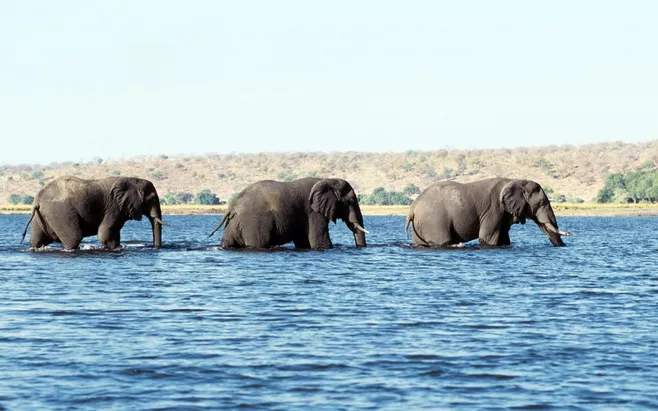elephant: (405, 177, 567, 257), (210, 176, 368, 256), (23, 176, 166, 261)
